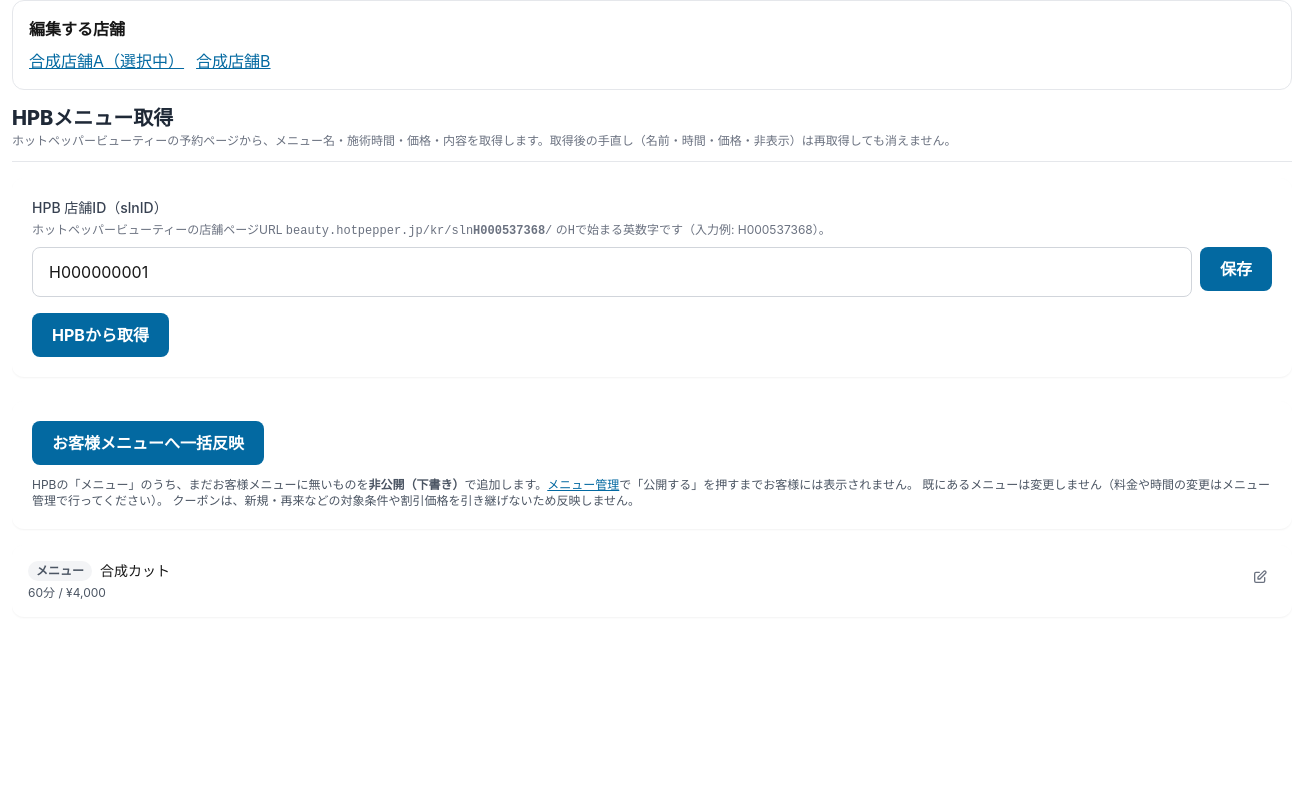
Test case: お客様メニューに残っているHPBクーポンの件数を、確認先とあわせて伝える
The width and height of the screenshot is (1292, 800).
Expected: the text "合成カット" is shown, [100,561,170,581]
What coordinates should you click on to do the following:
click the button "お客様メニューへ一括反映"
I would click on:
 (148, 443)
Its box is [32,421,264,465].
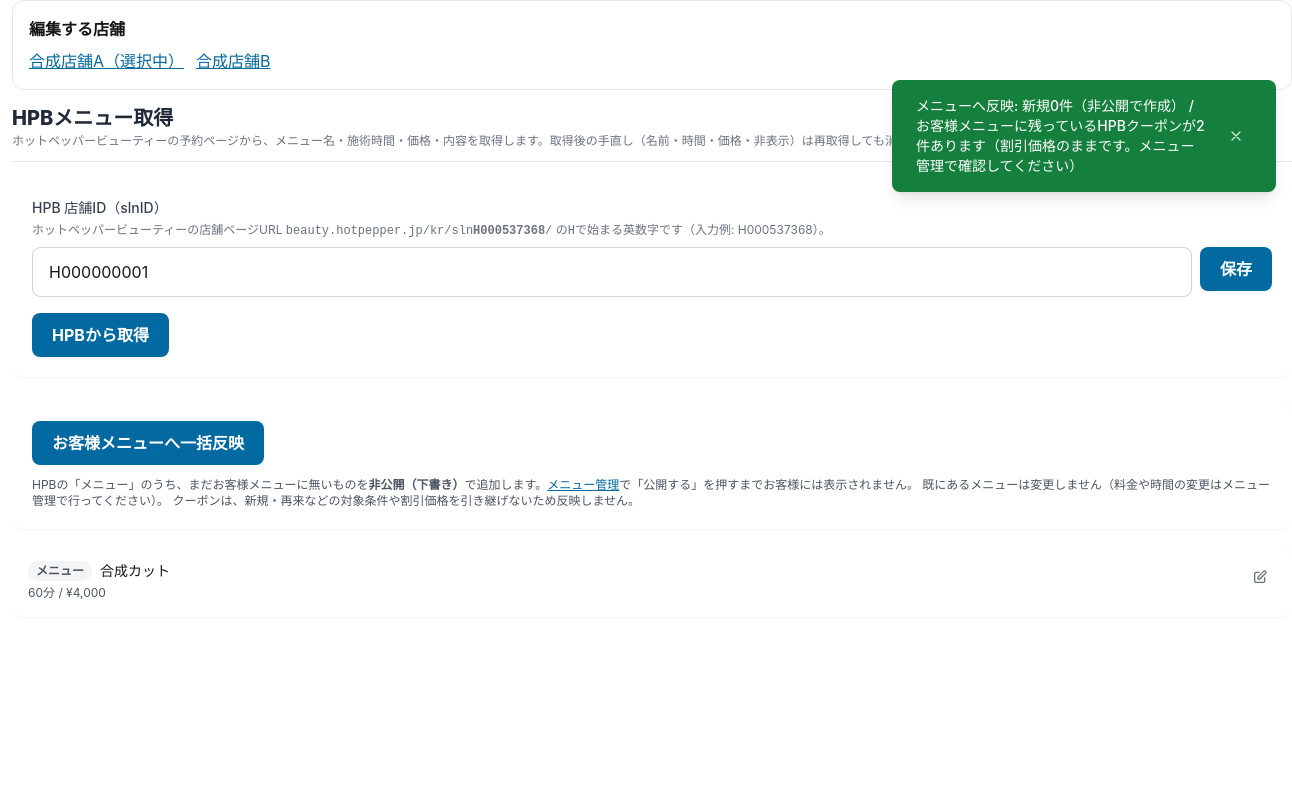
Expected: the text "メニューへ反映: 新規0件" shows "お客様メニューに残っているHPBクーポンが2件あります（割引価格のままです。メニュー管理で確認してください）", [916,97,1204,174]
